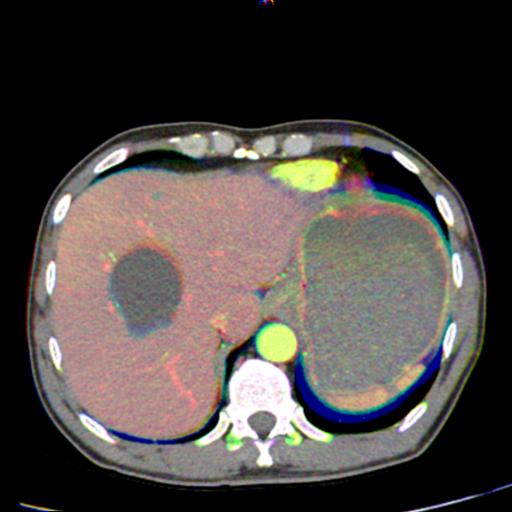Cyst: (109, 247, 181, 336)
